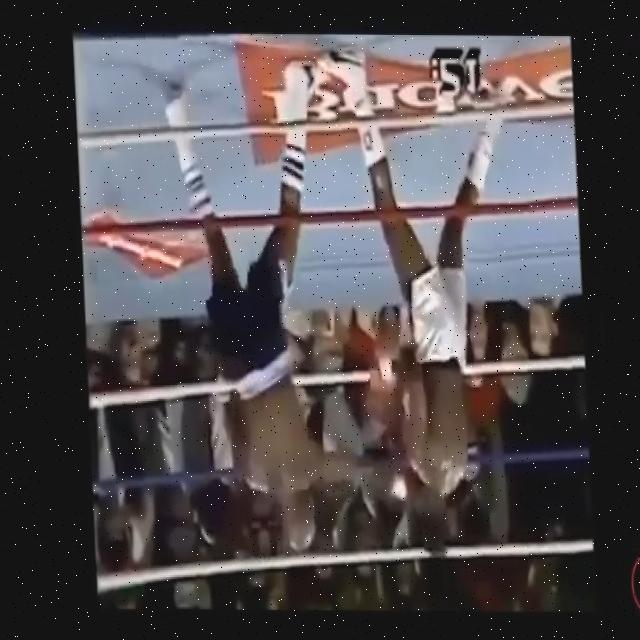Jab: (248, 313, 443, 532)
